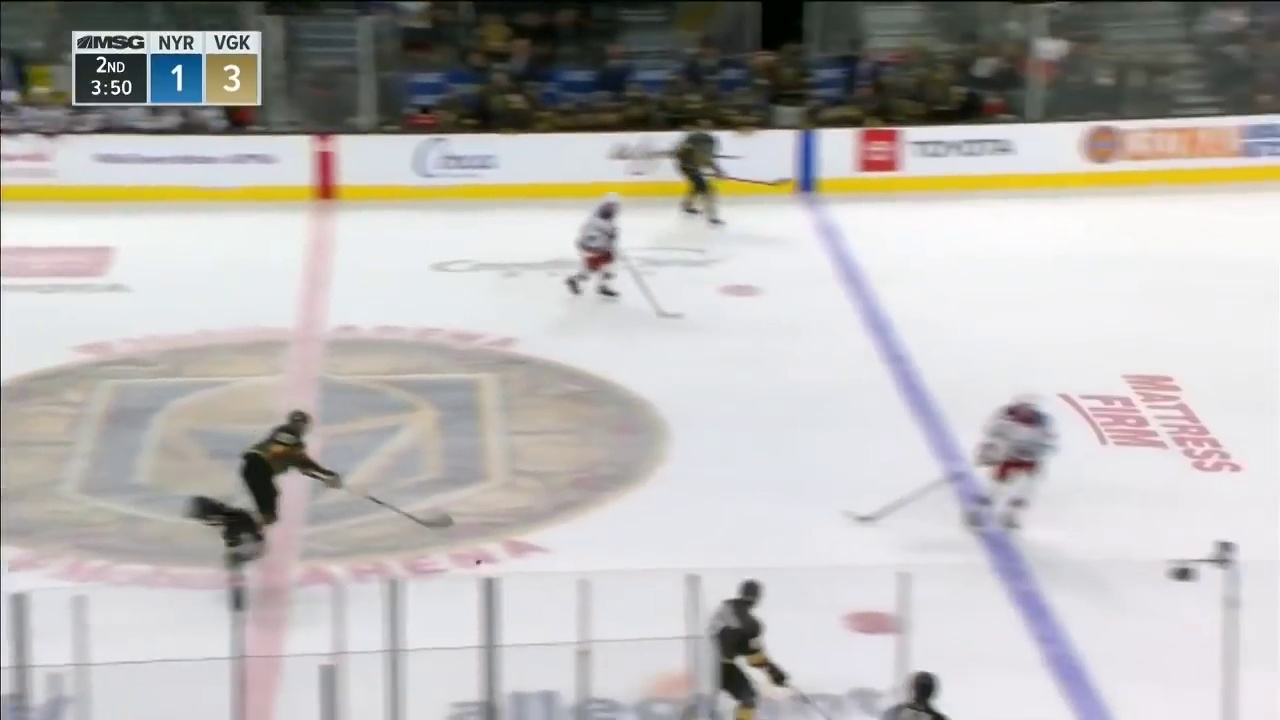hockeyplayer: (241, 410, 340, 539), (970, 394, 1060, 535), (708, 578, 788, 720), (565, 192, 621, 301), (676, 119, 727, 226)
